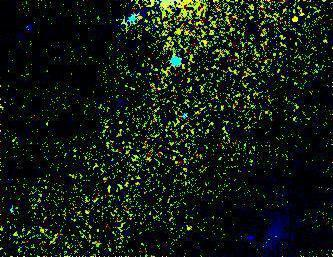star: (281, 5, 311, 35)
